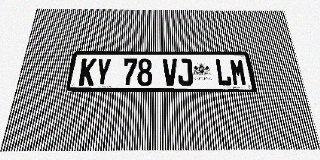7: (121, 58, 137, 86)
8: (137, 59, 152, 86)
J: (177, 59, 193, 86)
K: (78, 58, 97, 86)
L: (215, 59, 232, 86)
M: (229, 59, 248, 86)
V: (163, 59, 178, 86)
Y: (94, 58, 112, 86)
